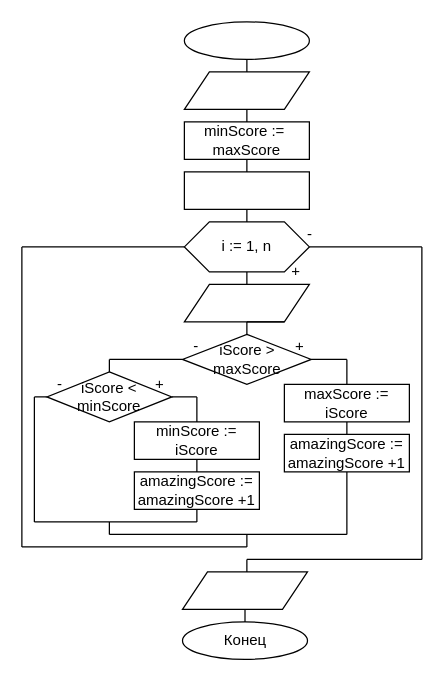
Image size: 445x681. Some labels were removed from this diagram. Each missing label, with the centre of its shape:
amazingScore := 0: (246,190)
Ввод: iScore: (246,302)
Ввод: n, k: (244,590)
Ввод: n, maxScore: (246,90)
Начало: (246,40)
